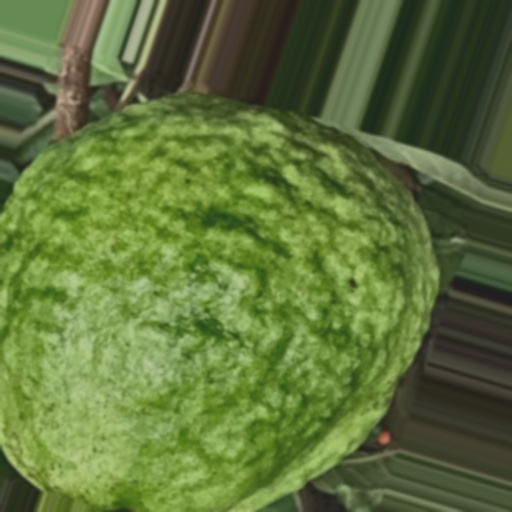guava: (54, 95, 437, 416)
